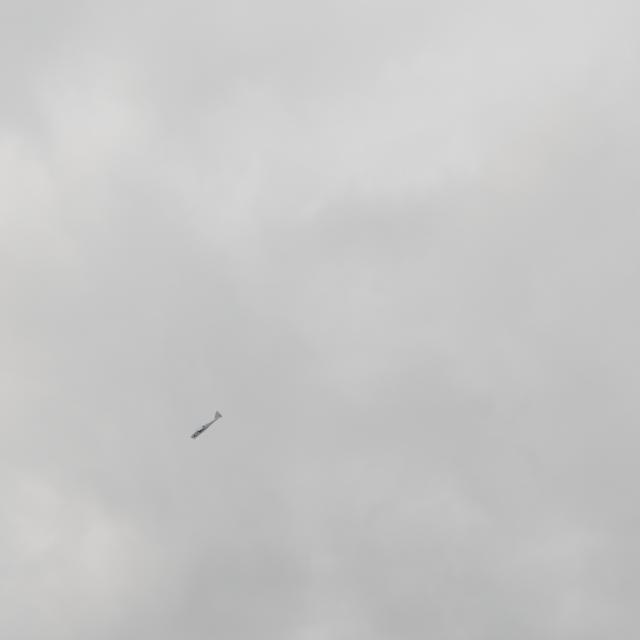Airaplan: (191, 411, 223, 439)
